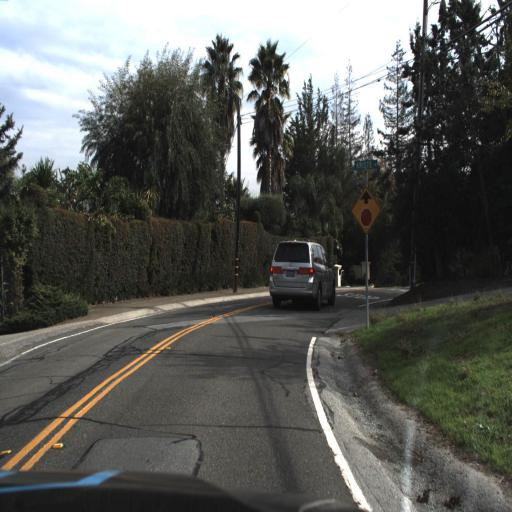car: (261, 235, 341, 313)
